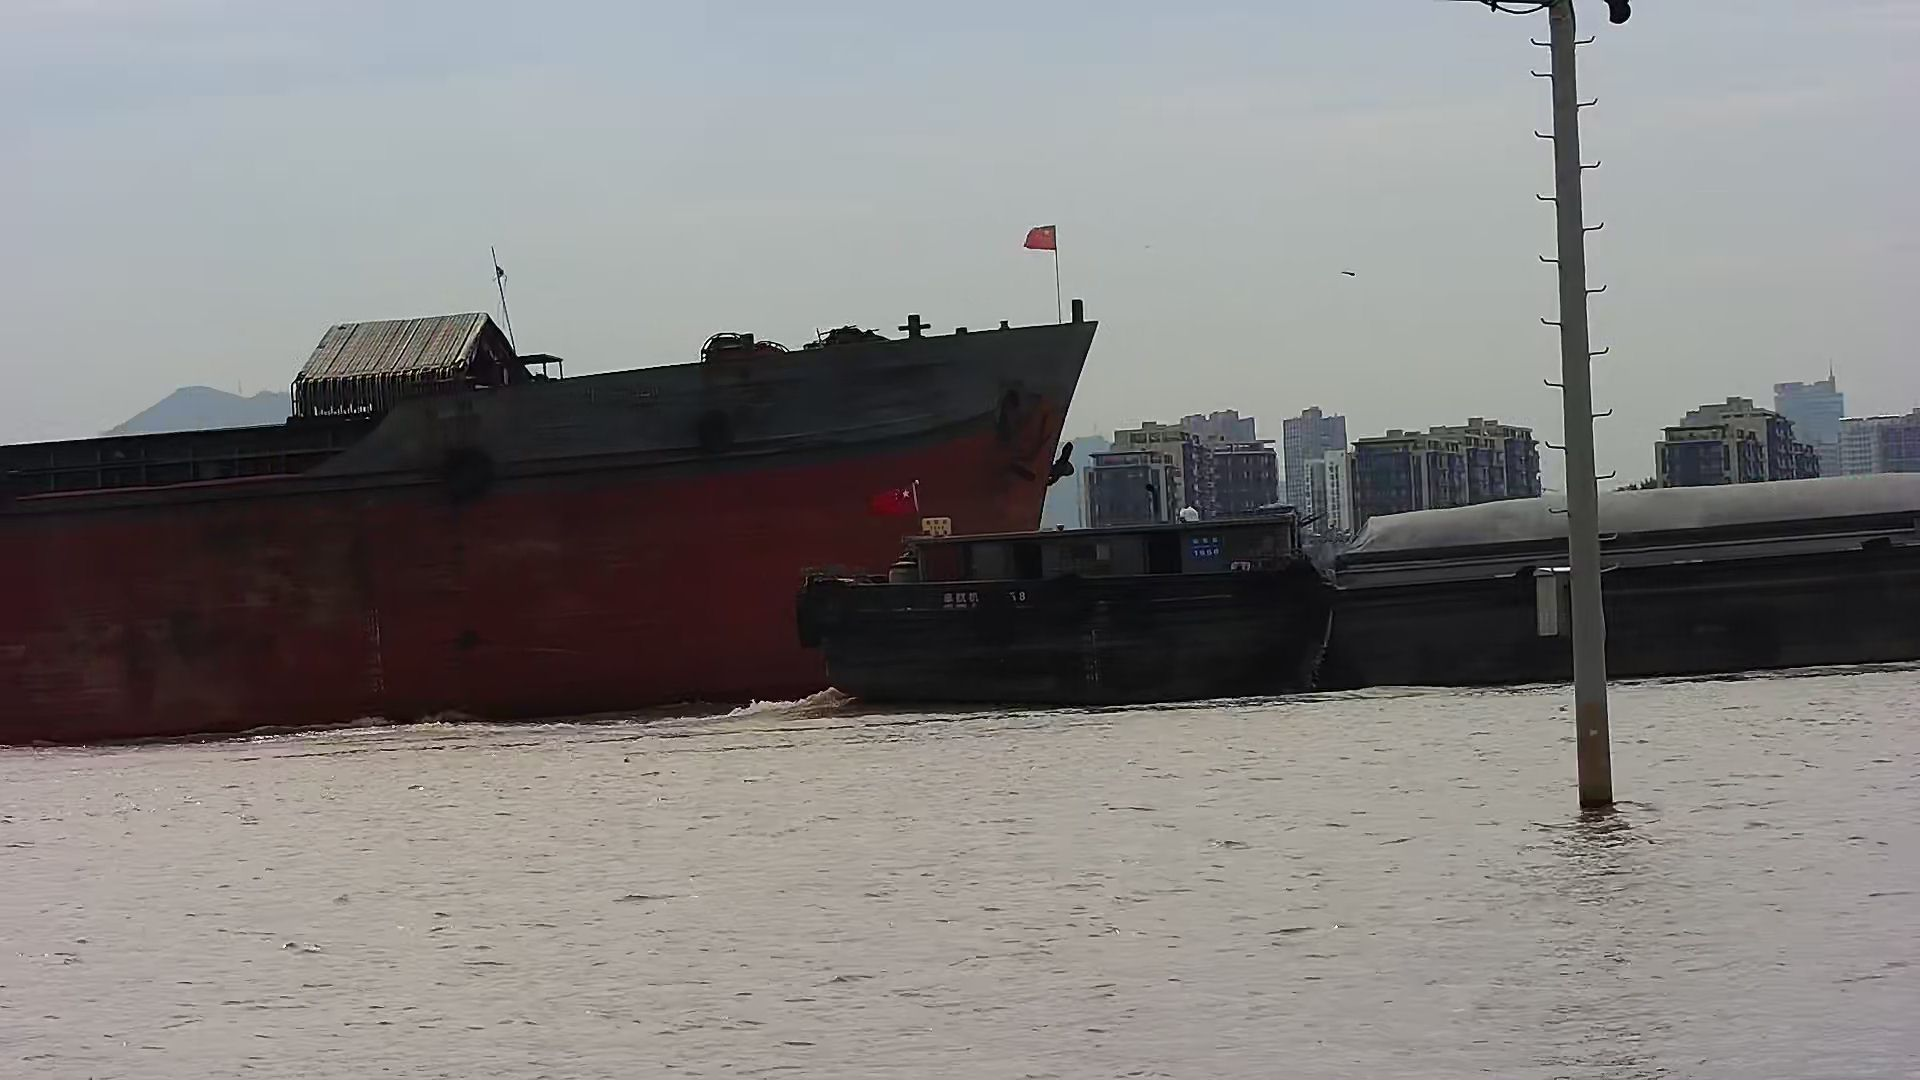mast: (1484, 1, 1633, 810)
ship: (1, 291, 1102, 749), (800, 479, 1920, 709)
